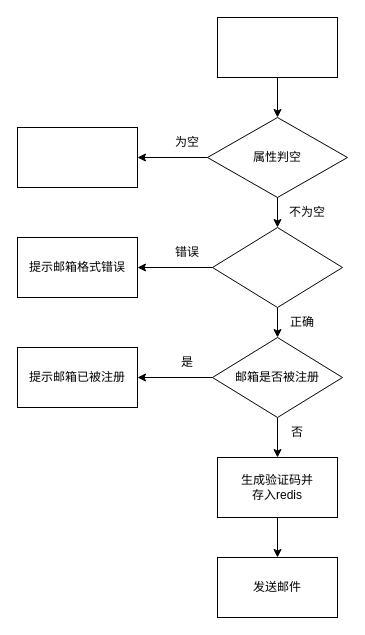
The diagram is 365 pixels wide and 635 high, and some of its shapes have lost their labels. Here are the shapes that lost their labels. From the top down, the centre of each, then its label:
At point 277,47: "用户获取验证码".
At point 77,157: "提示不能为空".
At point 277,267: "验证邮箱格式".
